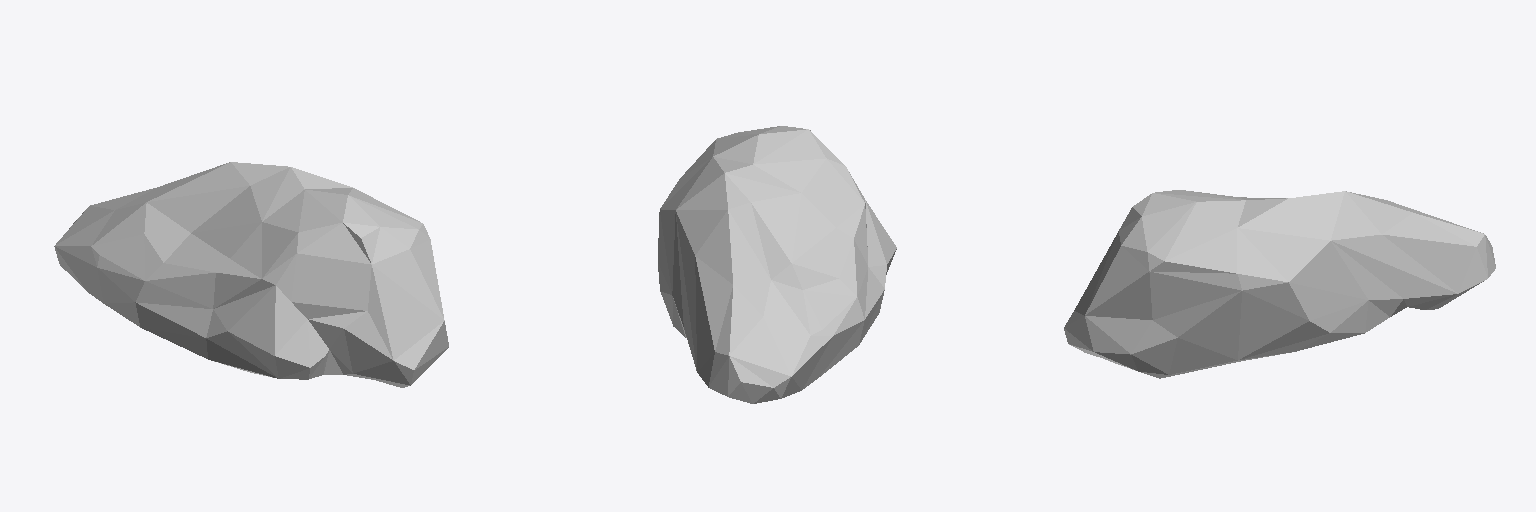
The model's file is rock6.obj.
3 views of the same model, side by side, from view 1: azimuth 30°, elevation 25°; view 2: azimuth 150°, elevation 25°; view 3: azimuth 270°, elevation 25° (orthographic).
Visible parts, largest first — view 1: rocks_6_01; view 2: rocks_6_01; view 3: rocks_6_01.
Boxes of the visible parts, x1,y1,x2,y2 form: rocks_6_01: [54, 162, 448, 387]; rocks_6_01: [658, 126, 896, 403]; rocks_6_01: [1064, 190, 1495, 378].
Size of the model in its own units: 4.94 by 3.3 by 8.2.